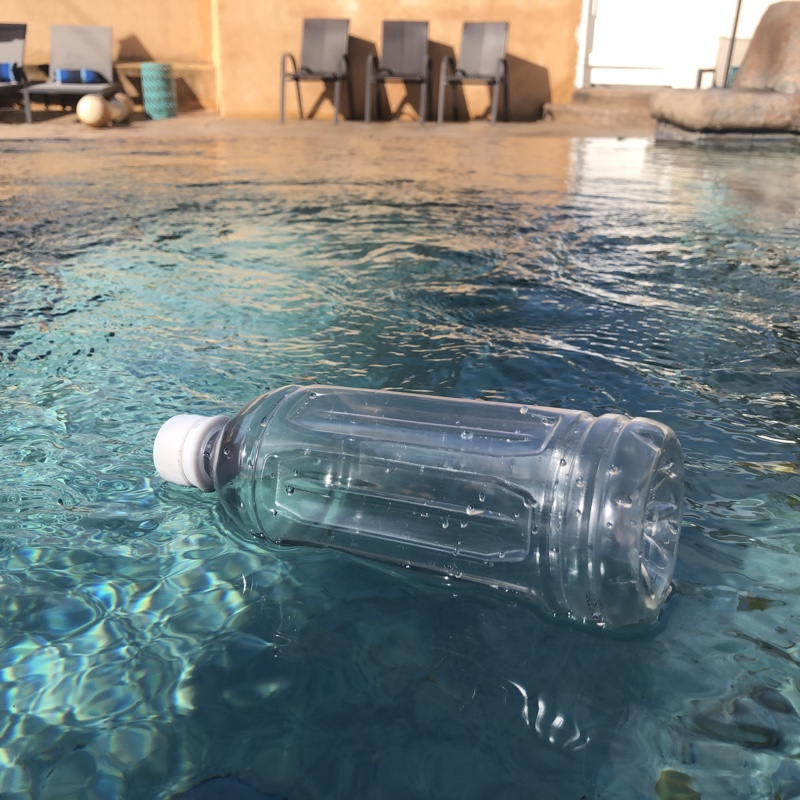Plastic Bottle: (146, 377, 692, 642)
